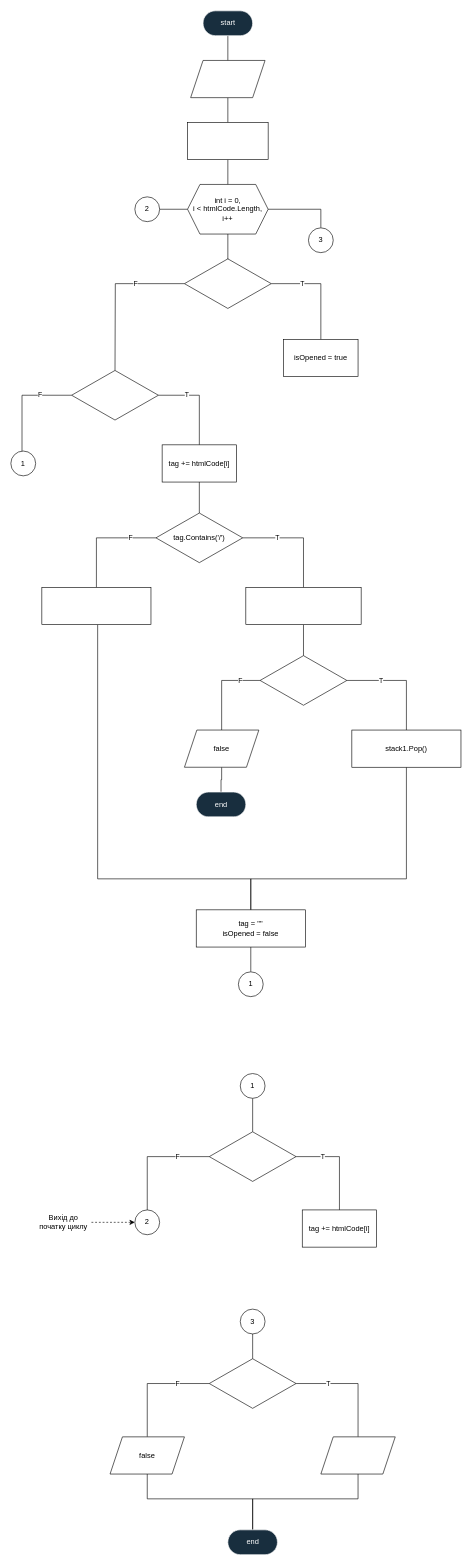
Image size: 472x1566. Some labels were removed from this diagram. The box of each missing label's shape, as (x1, y1, x2, y2) in pixels:
htmlCode[i] = '<': (184, 258, 271, 308)
htmlCode[i] = '>': (71, 370, 158, 420)
isOpened: (209, 1131, 296, 1181)
item1 == item2: (259, 655, 347, 705)
stack1 = InitStack() bool isOpened = false string tag = "": (187, 122, 268, 160)
stack1.IsEmpty(): (209, 1358, 296, 1408)
stack1.Push(tag): (41, 587, 151, 625)
string htmlCode: (190, 60, 265, 98)
string item1 = stack1.Peek() string item2 = tag.Replace("/", ""): (245, 587, 361, 625)
true: (320, 1436, 395, 1474)
